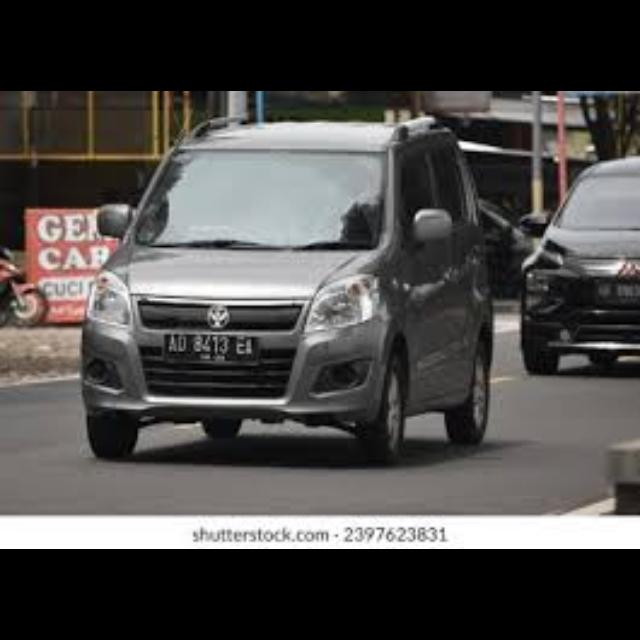vehicles: (76, 110, 490, 466), (519, 154, 640, 374)
